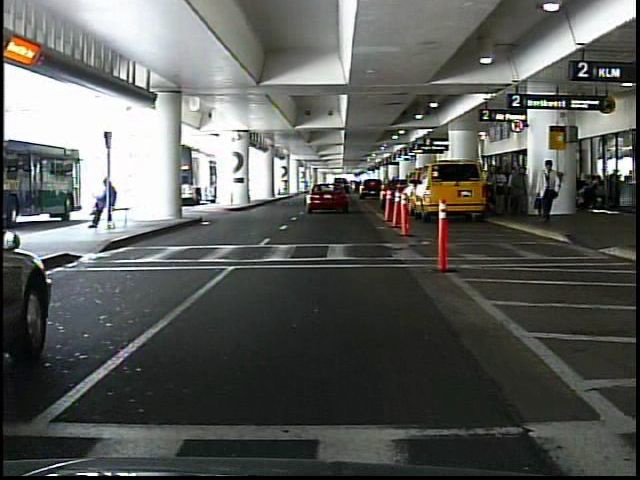person: (532, 157, 562, 222), (511, 163, 530, 219), (494, 166, 509, 215)
